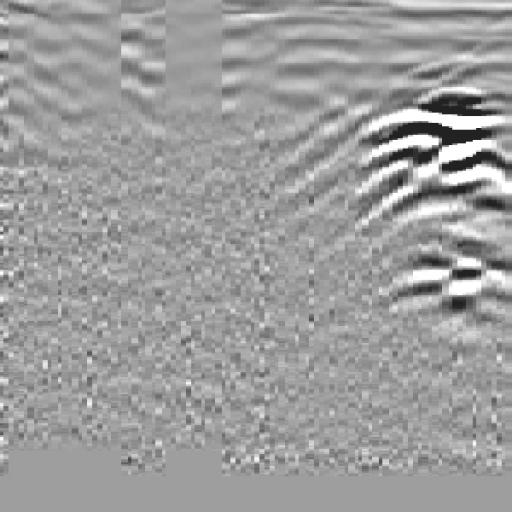metalic: (339, 55, 512, 337)
